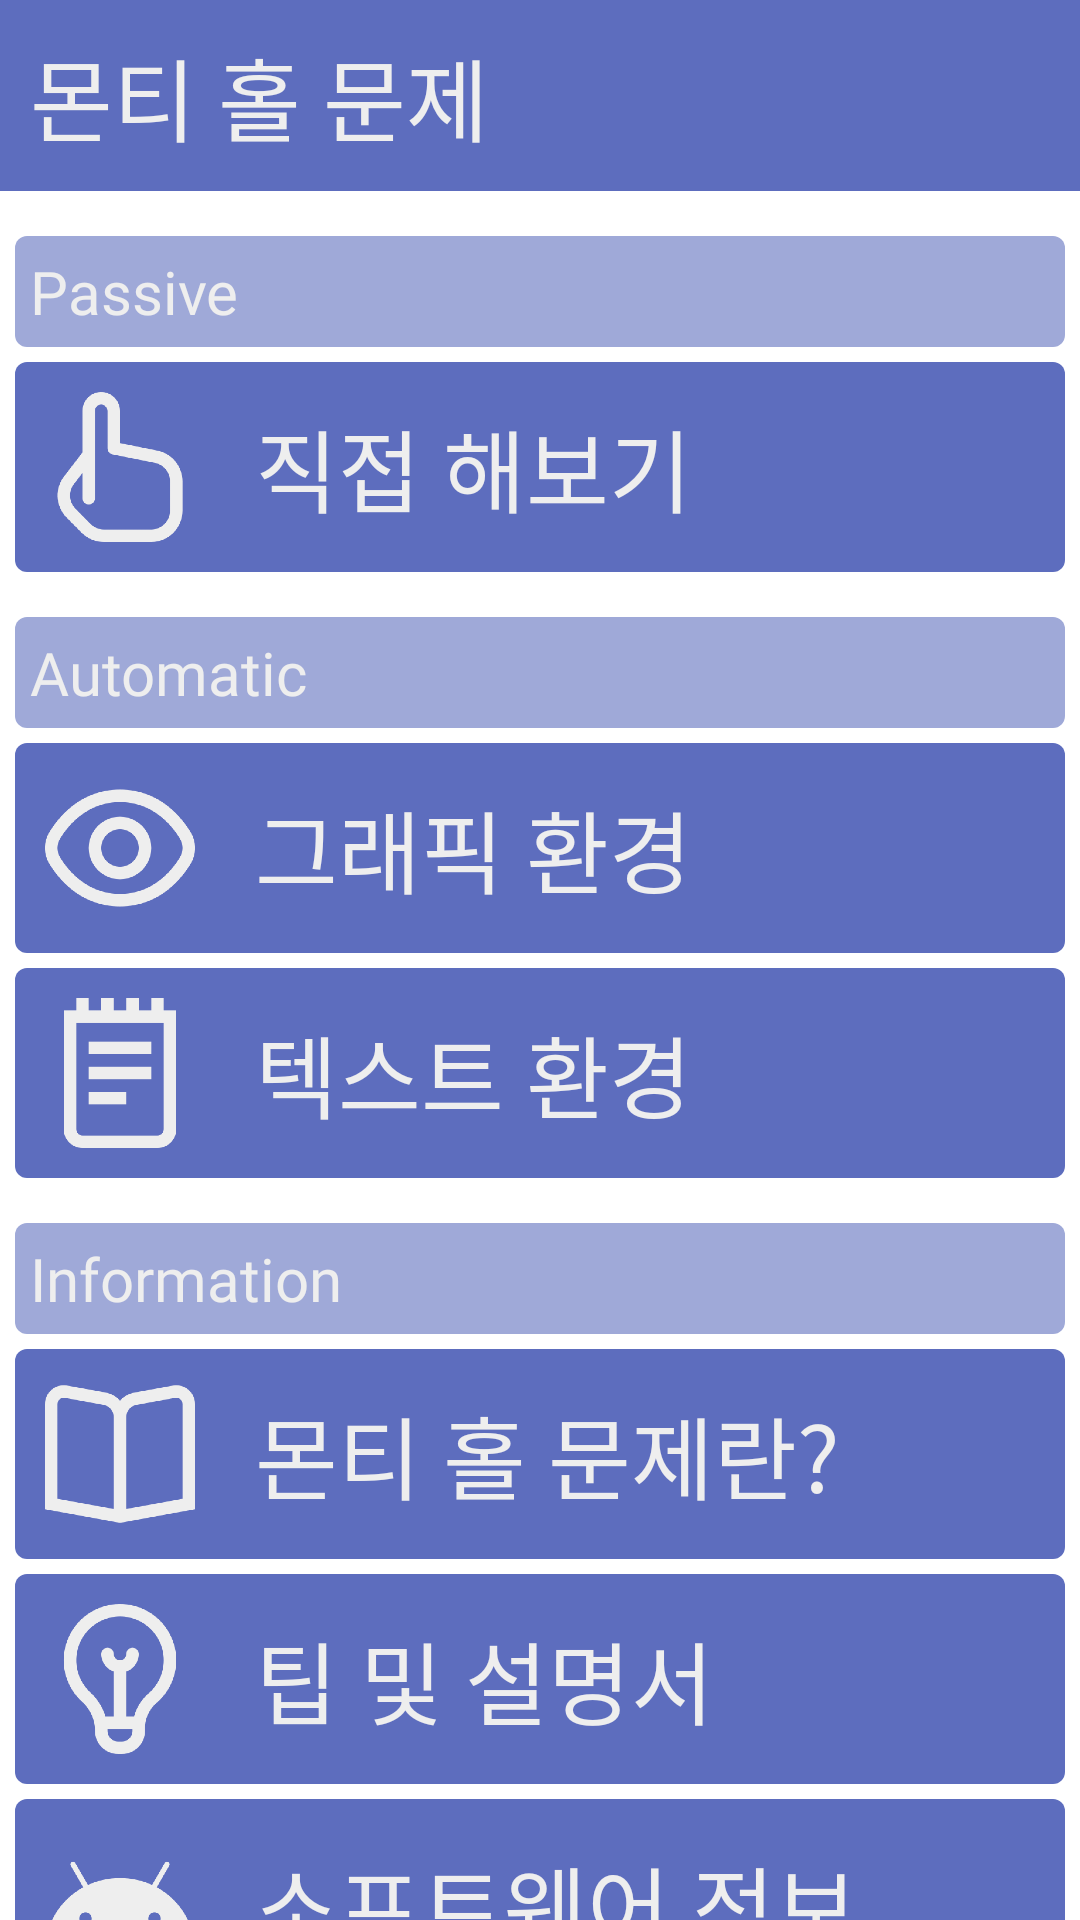

Where icons sit on this 1080 x 1920 app screen, as (x1, y1, x2, y2):
explain: (45, 1385, 195, 1523)
text: (64, 998, 176, 1148)
tips: (64, 1604, 176, 1754)
